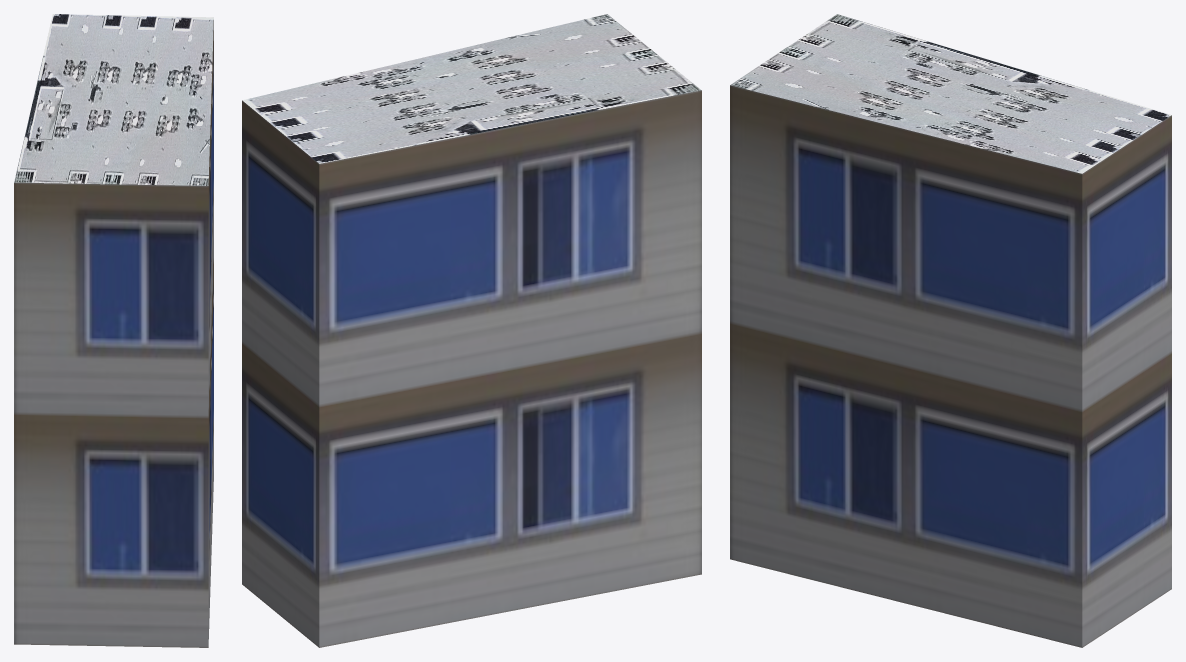
Rendered from ResTex__4296.fbx.
3 renders of one model, left to right at view 1: azimuth 30°, elevation 25°; view 2: azimuth 150°, elevation 25°; view 3: azimuth 270°, elevation 25°, orthographic. The views are drawn at different scales.
Parts seen in each view (by area): view 1: CityEngineMaterial_23_m, CityEngineMaterial_8_m; view 2: CityEngineMaterial_23_m, CityEngineMaterial_8_m; view 3: CityEngineMaterial_23_m, CityEngineMaterial_8_m.
Part boxes in pixels (<box>): CityEngineMaterial_23_m: <box>14,20,213,647</box>; CityEngineMaterial_8_m: <box>14,14,213,185</box>; CityEngineMaterial_23_m: <box>242,90,701,647</box>; CityEngineMaterial_8_m: <box>242,14,701,163</box>; CityEngineMaterial_23_m: <box>730,85,1171,647</box>; CityEngineMaterial_8_m: <box>730,14,1171,173</box>.
Bounding box in the file's own units: 4.34 × 6 × 5.07.
Materials: 2 (2 with a texture image).
